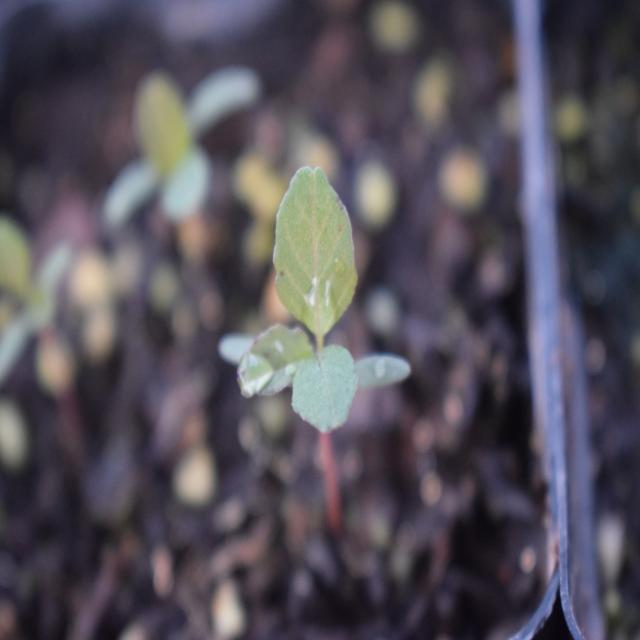pigweed: (210, 167, 393, 460)
